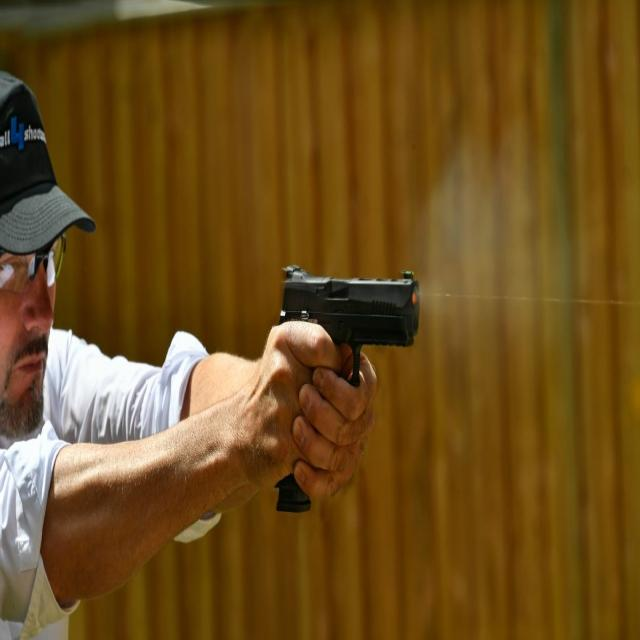HandGun: (278, 266, 419, 388)
